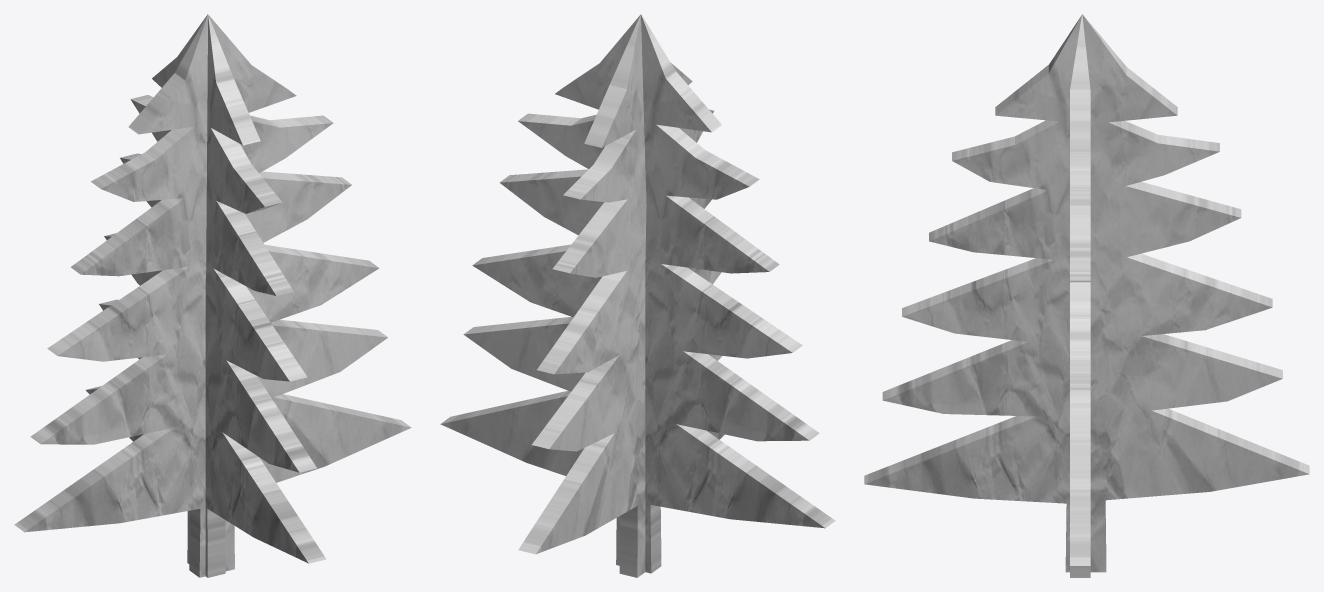
File: TreeWhite_3.fbx
The picture shows the model from 3 angles, left to right: view 1: azimuth 30°, elevation 25°; view 2: azimuth 150°, elevation 25°; view 3: azimuth 270°, elevation 25°; orthographic projection.
Parts seen in each view (by area): view 1: Plane.002; view 2: Plane.002; view 3: Plane.002.
Boxes of the visible parts, x1=… form: Plane.002: x1=14, y1=14, x2=411, y2=577; Plane.002: x1=440, y1=14, x2=835, y2=577; Plane.002: x1=864, y1=14, x2=1309, y2=577.
Bounding box in the file's own units: 220 × 301 × 220.
